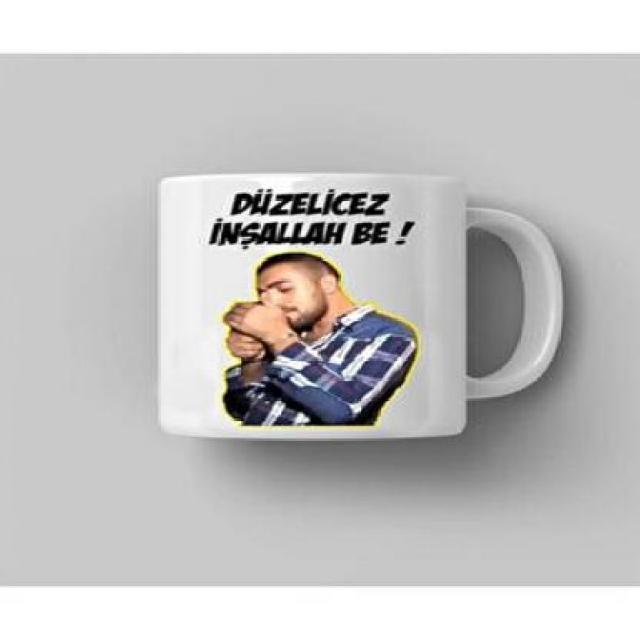taza: (147, 162, 582, 452)
